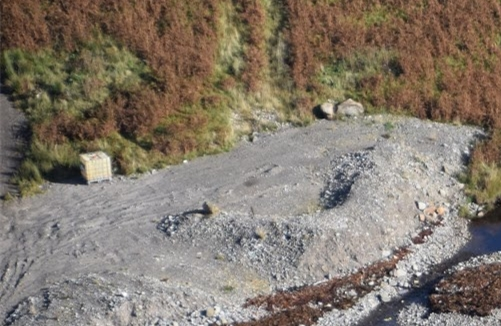cuboid: (69, 144, 122, 190)
